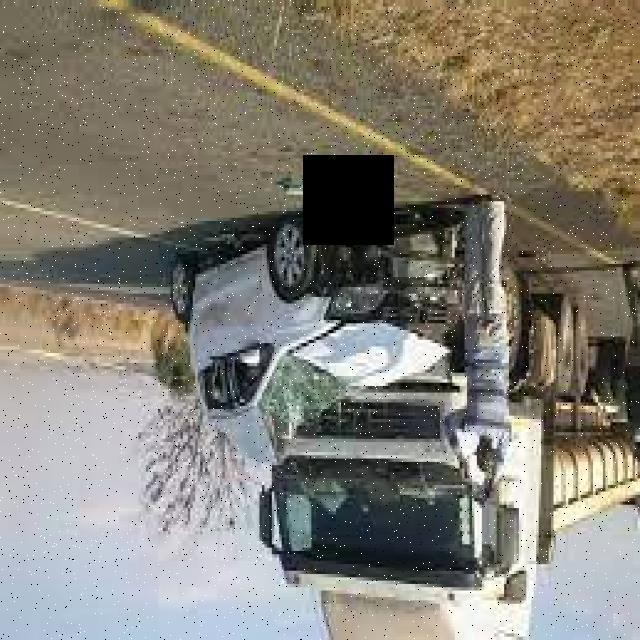severe: (0, 638, 2, 640)
